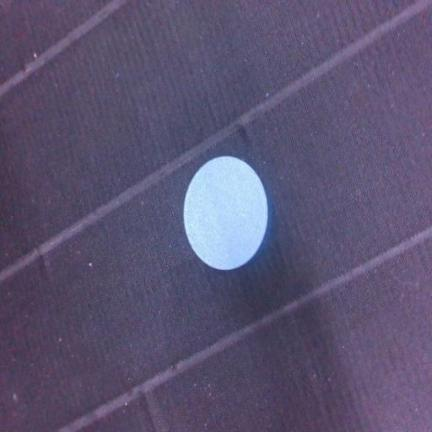cylinder: (183, 156, 267, 270)
